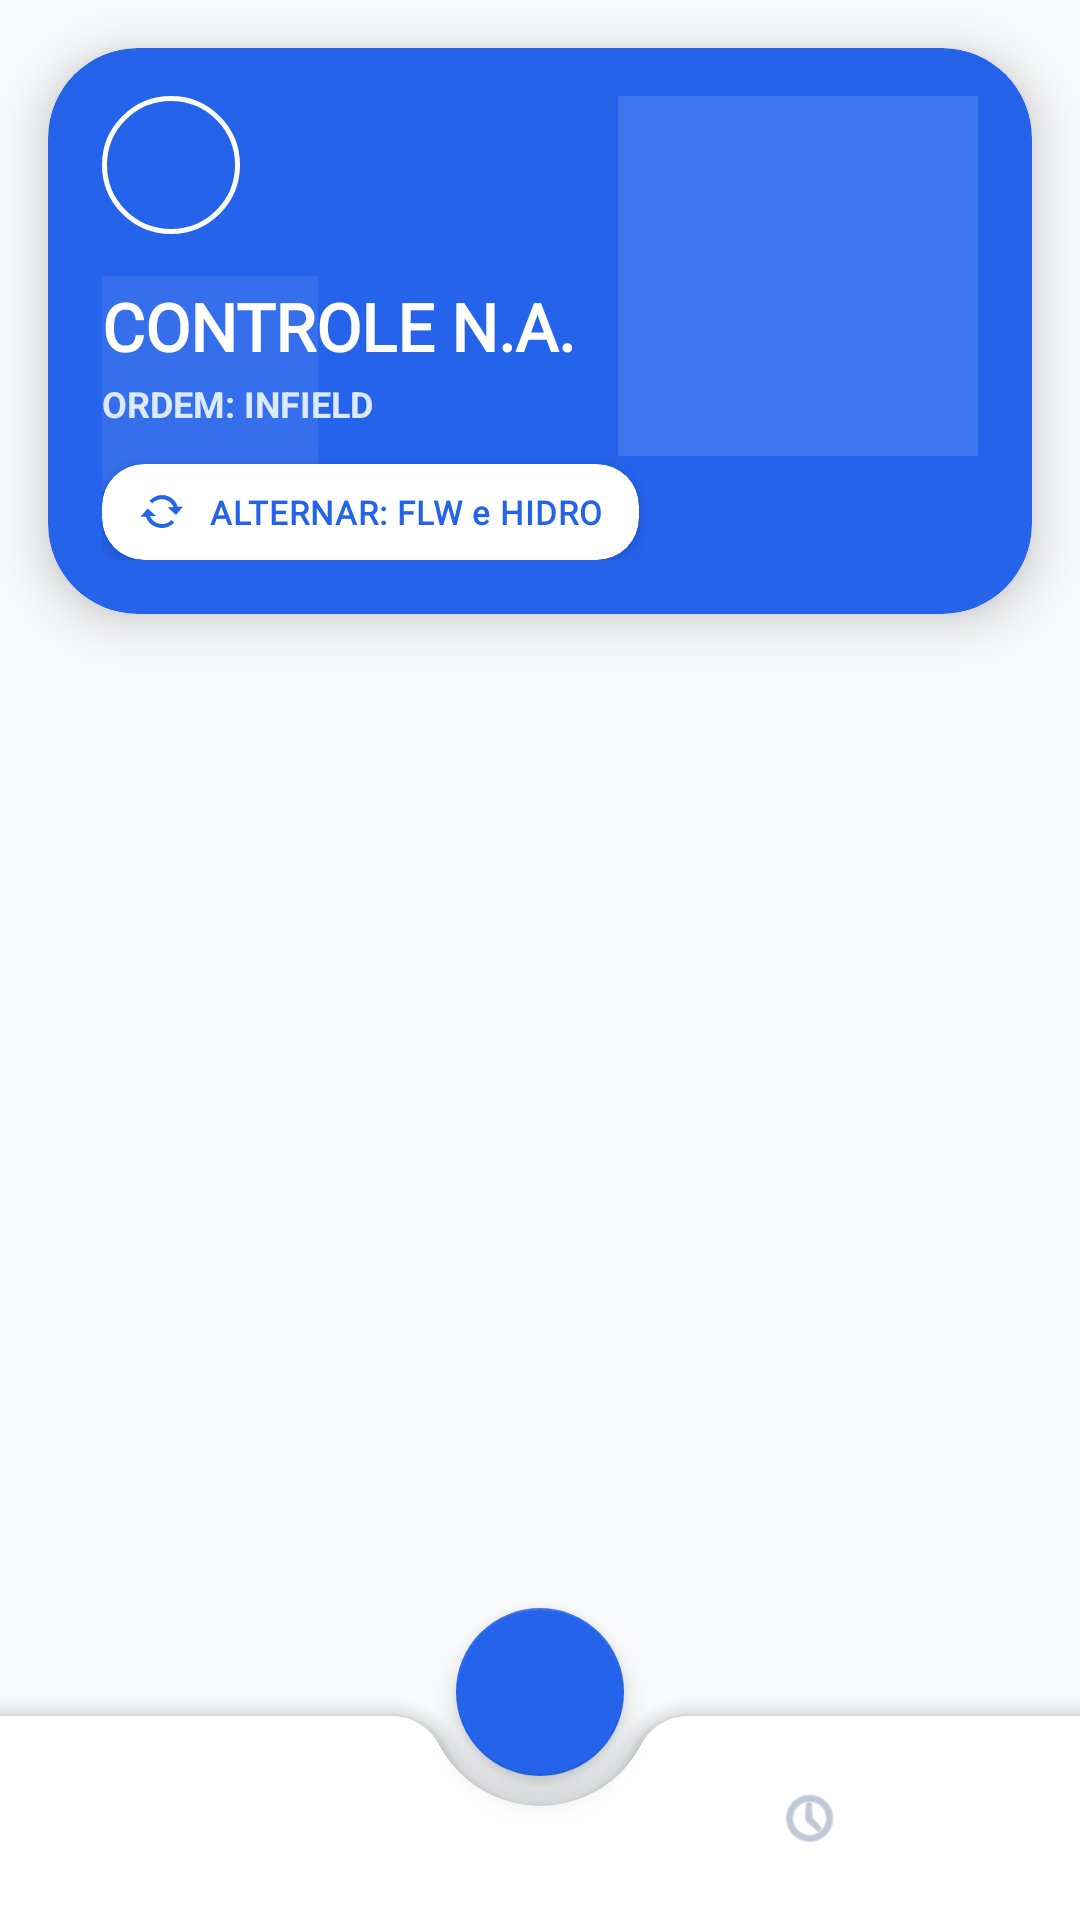

Icons on this 1080×1920 Android screen, each with its box as (x1=x1, y1=y1, x2=x2, y2=y2):
recent history: (x1=786, y1=1795, x2=833, y2=1842)
sync: (x1=140, y1=495, x2=183, y2=528)
